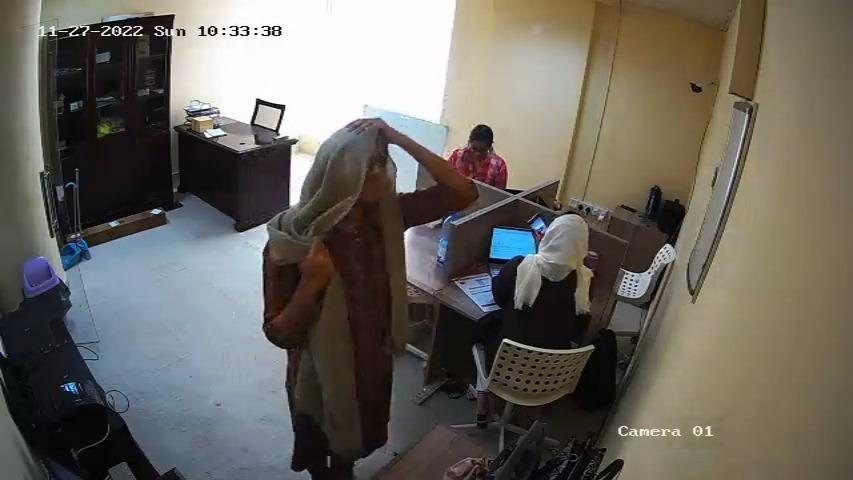no_apron: (325, 233, 399, 440)
